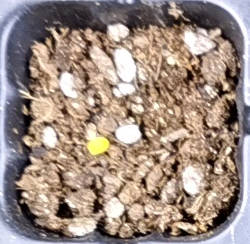pepper seed: (31, 59, 143, 215)
